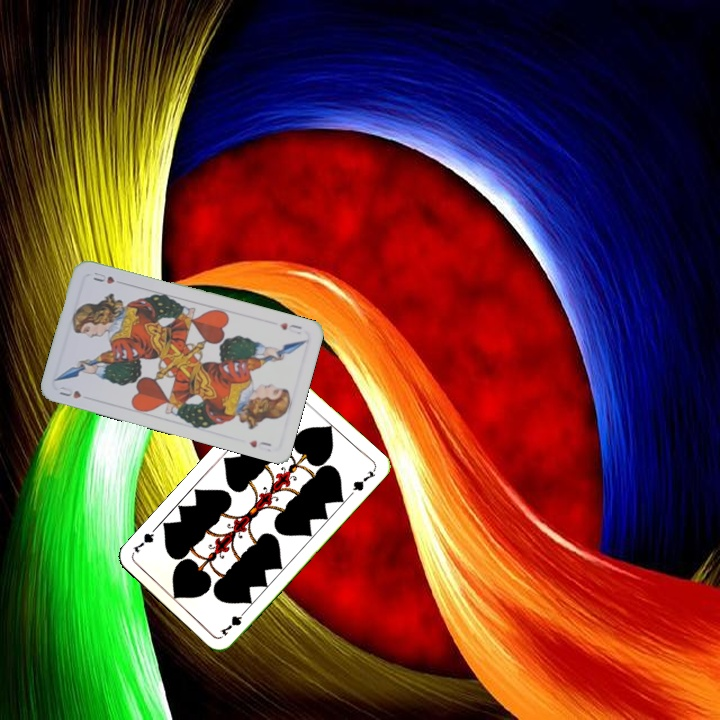G7: (216, 605, 250, 639)
HU: (276, 319, 305, 337), (55, 383, 84, 401)
